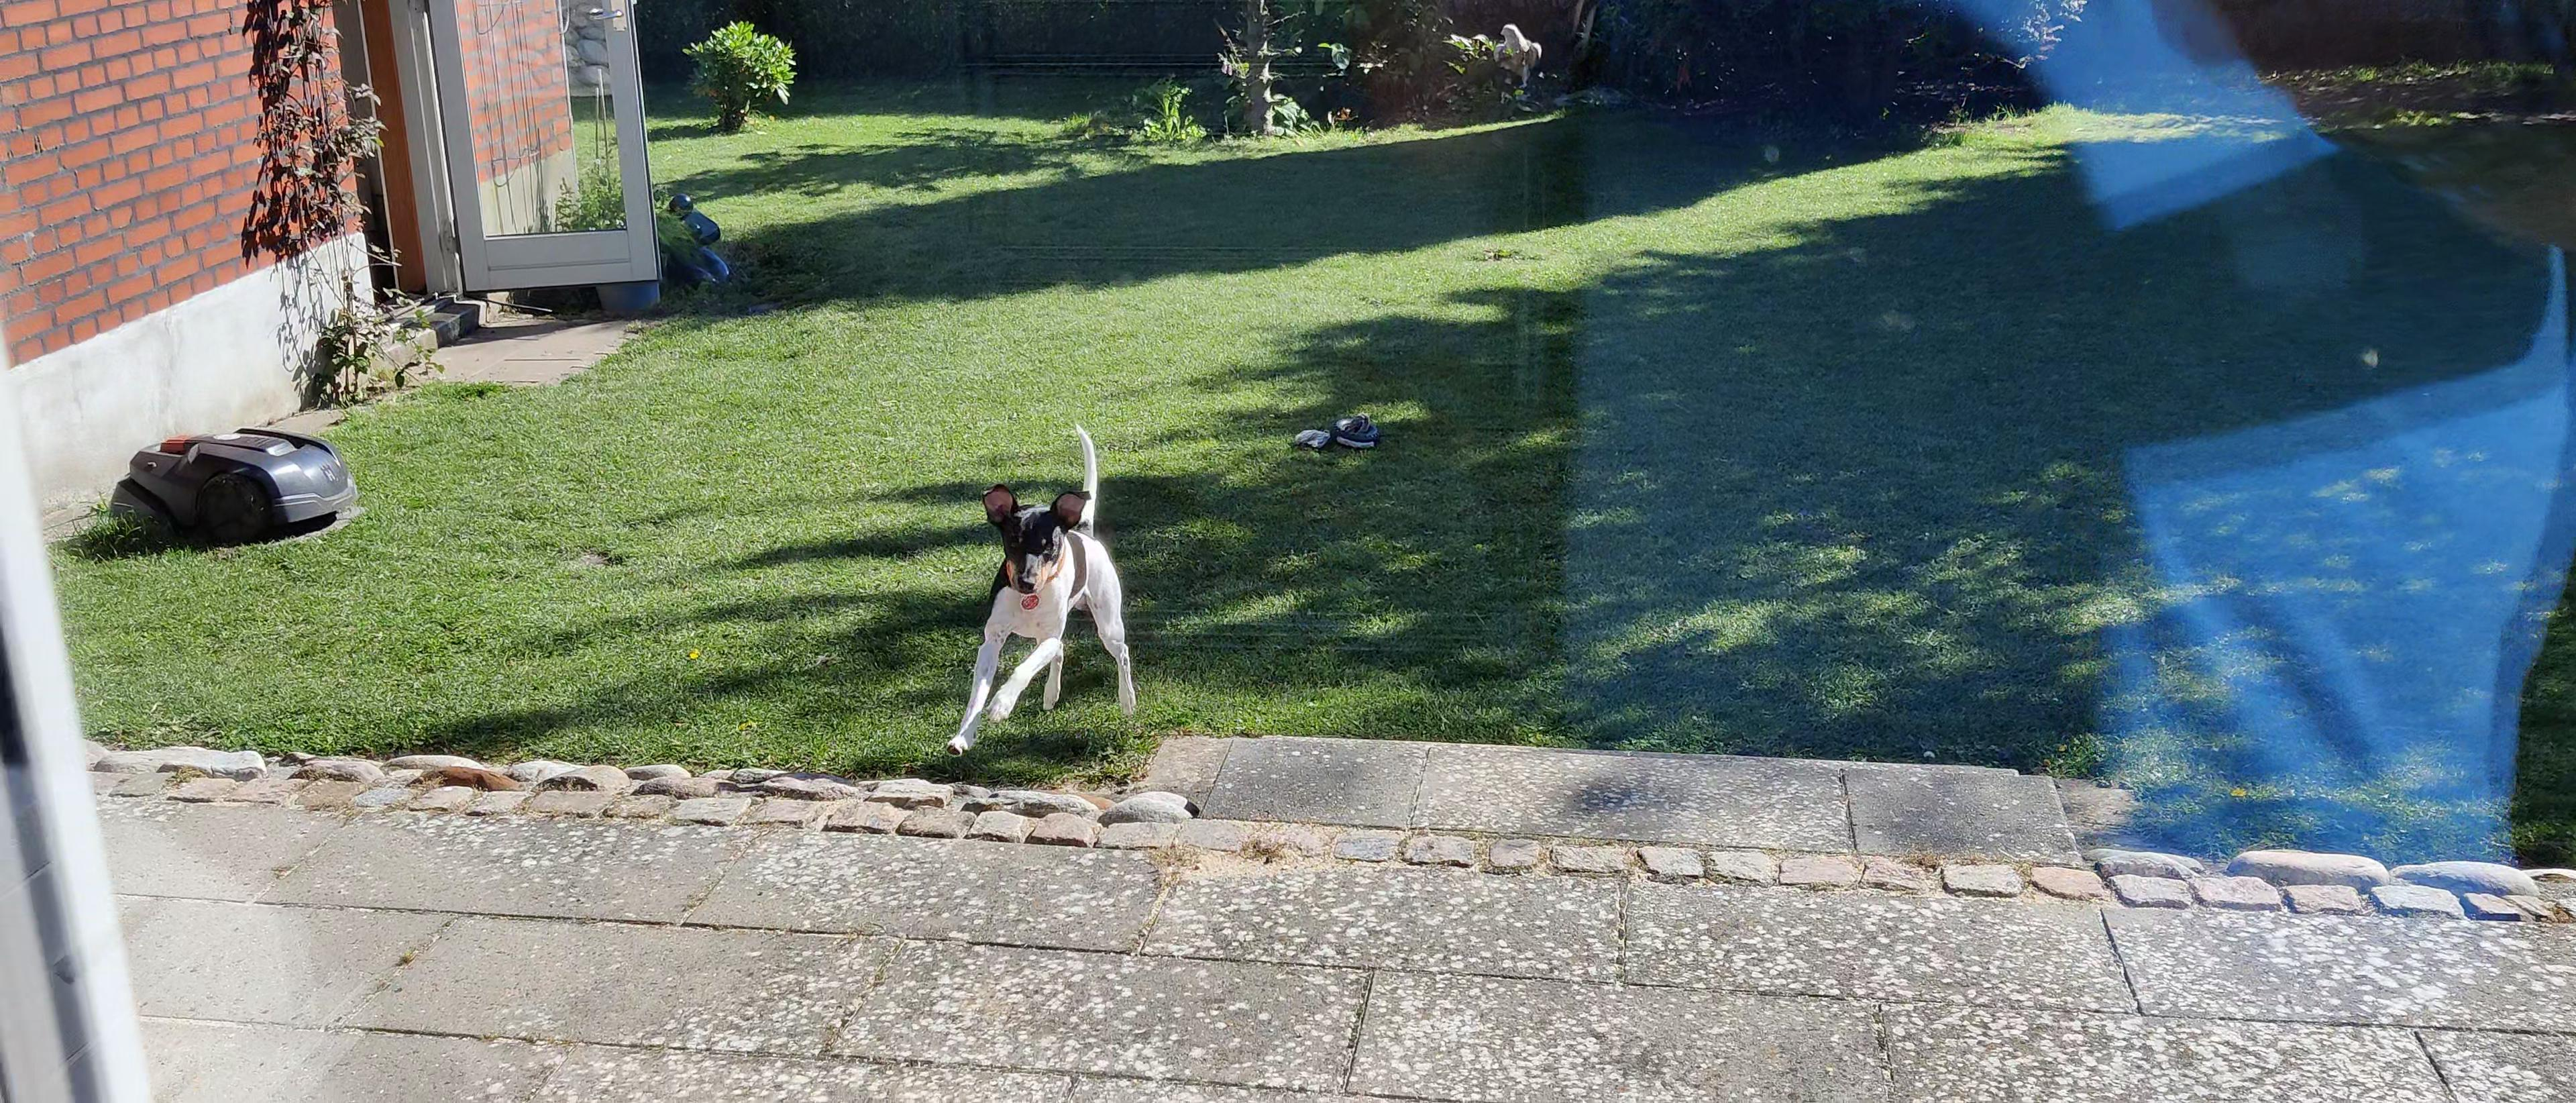Dog: (931, 418, 1148, 769)
